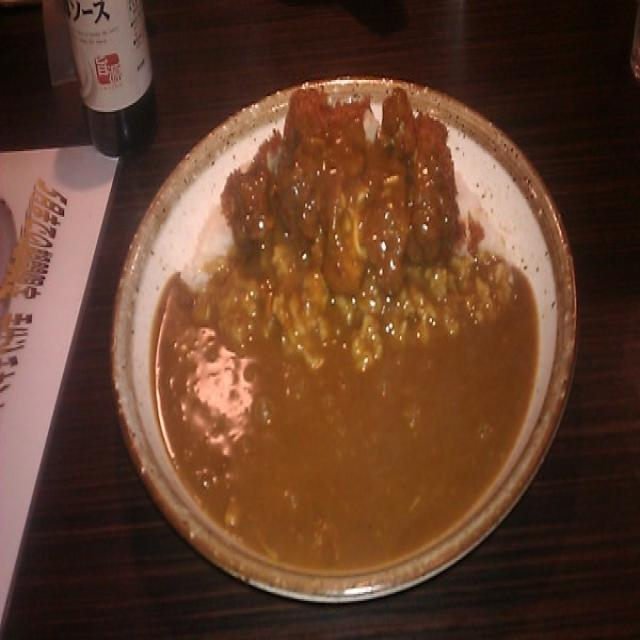猪肉菜式: (109, 70, 586, 614)
